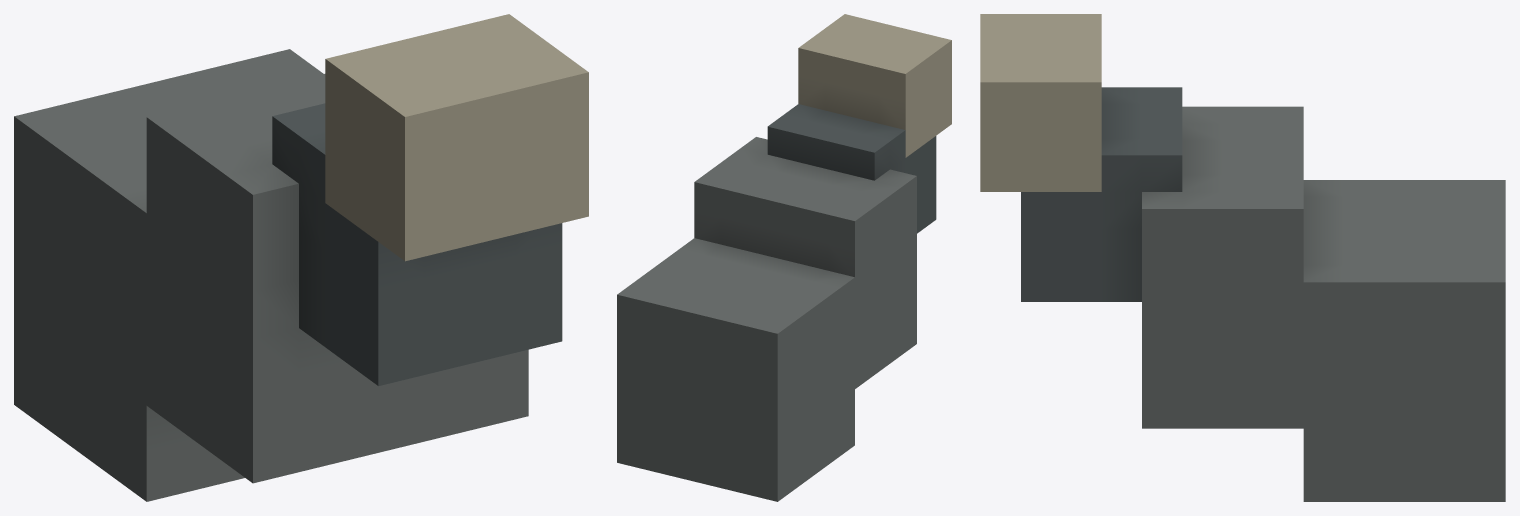
Rendered from tail.glb.
The picture shows the model from 3 angles, left to right: view 1: azimuth 30°, elevation 25°; view 2: azimuth 150°, elevation 25°; view 3: azimuth 270°, elevation 25°; orthographic projection. The views are drawn at different scales.
Parts seen in each view (by area): view 1: VoxelVisual; view 2: VoxelVisual; view 3: VoxelVisual.
Boxes of the visible parts, x1,y1,x2,y2 form: VoxelVisual: (14, 14, 588, 501); VoxelVisual: (617, 14, 951, 501); VoxelVisual: (980, 14, 1505, 501).
Size of what is drawn, in the model's own units: 0.375 by 0.6875 by 0.8125.
